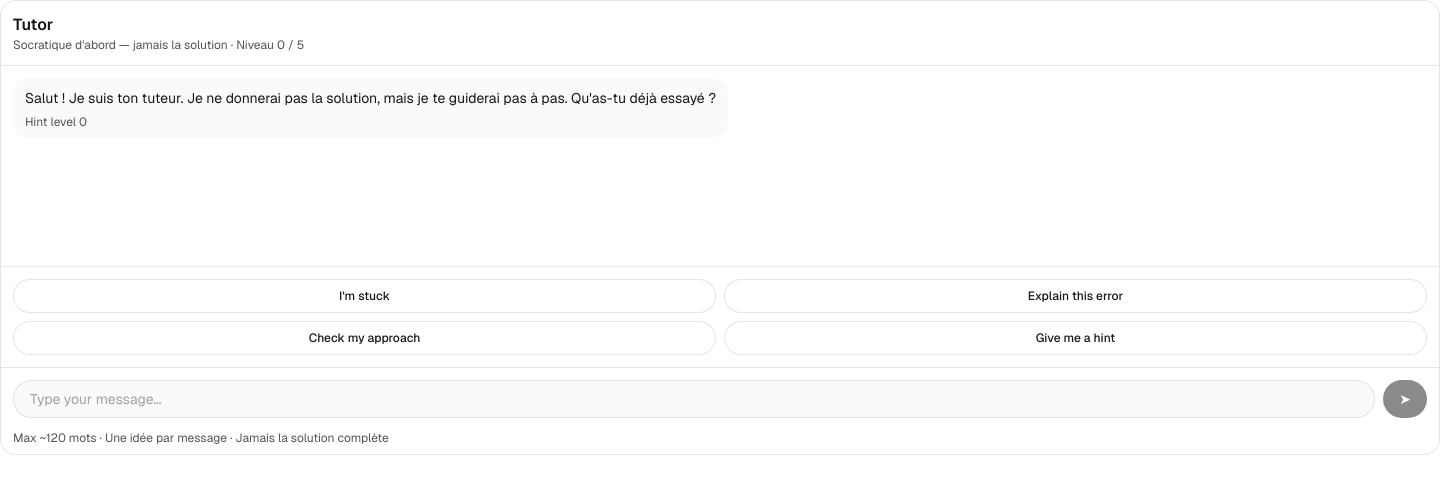
Test case: TutorChat › sends student message and streams tutor reply
In the field with test id "tutor-input": (694, 399) [13,380,1375,418], type "Je suis bloqué"
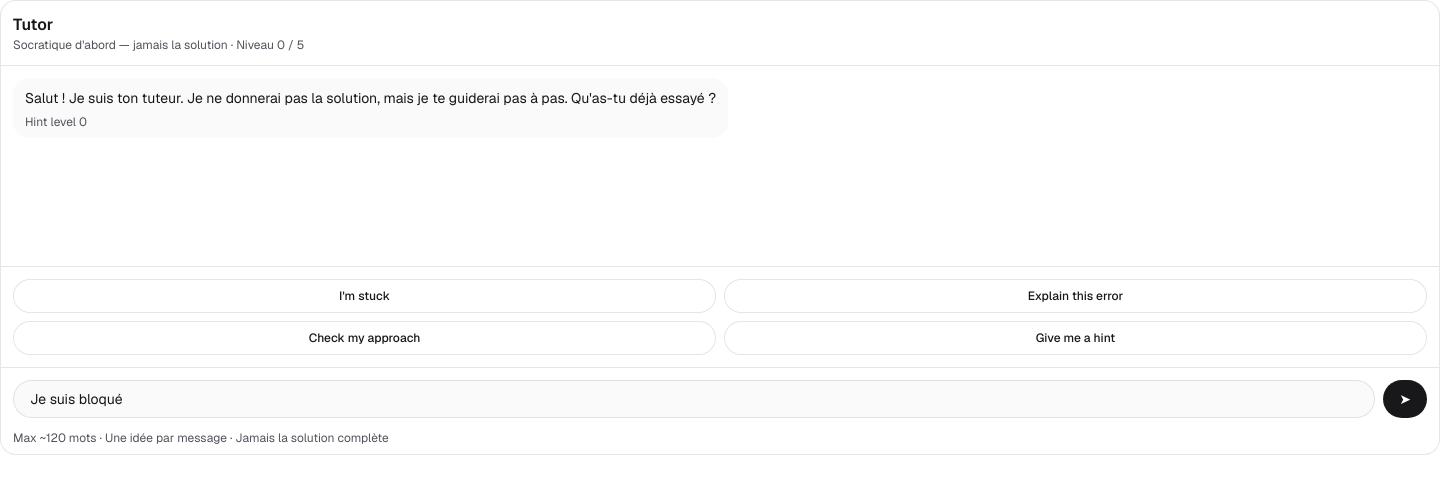
Click the button with test id "tutor-send": (1405, 399) [1383,380,1427,418]
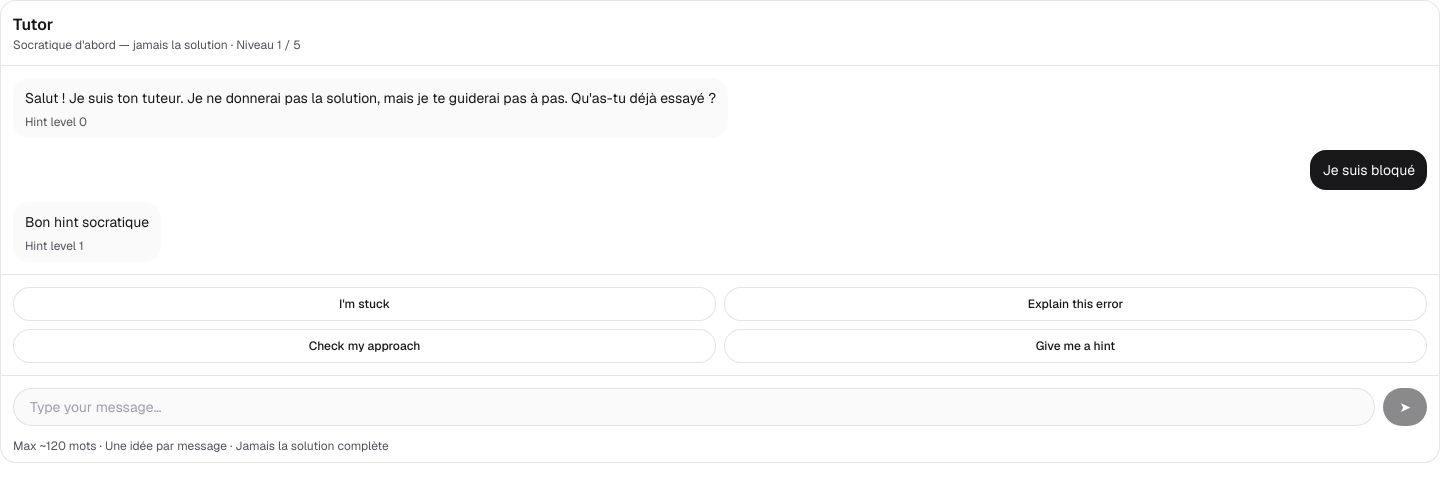
Check: the text "Bon hint socratique" is shown, box [25,213,149,231]
Check: the text "Je suis bloqué" is shown, box [1322,161,1415,179]
